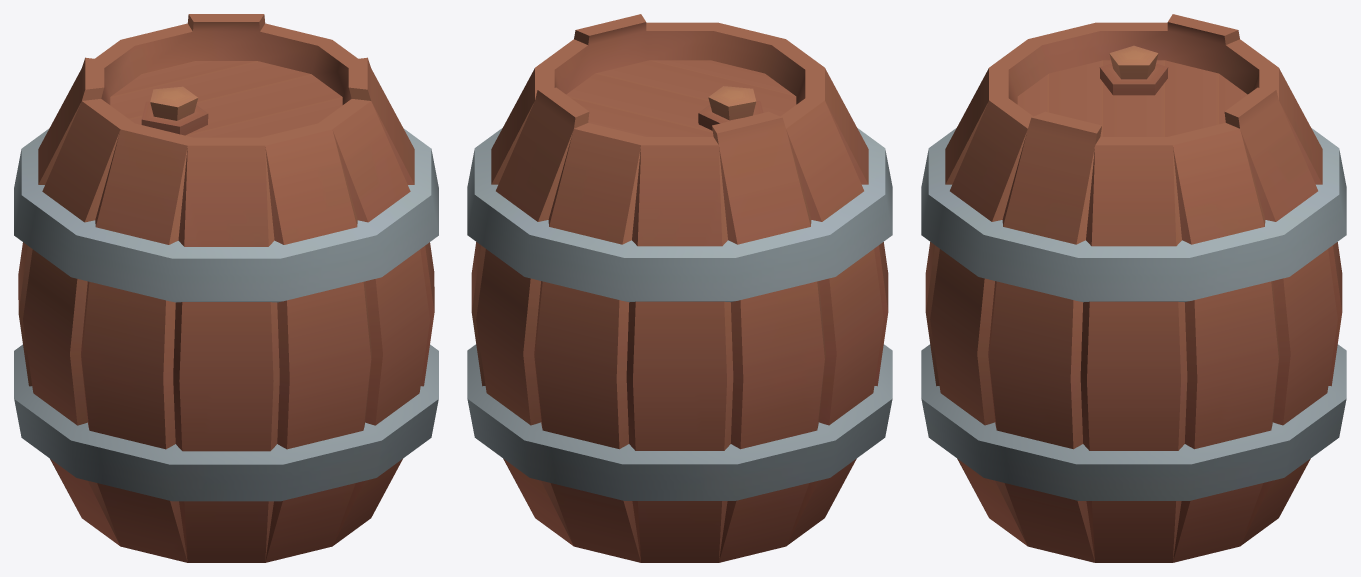
The model's file is barrel_large.gltf.glb.
The picture shows the model from 3 angles, left to right: view 1: azimuth 30°, elevation 25°; view 2: azimuth 150°, elevation 25°; view 3: azimuth 270°, elevation 25°; orthographic projection.
Parts seen in each view (by area): view 1: barrel_large; view 2: barrel_large; view 3: barrel_large.
Part boxes in pixels (x1,y1,x2,y2): barrel_large: (14, 14, 438, 562); barrel_large: (467, 14, 892, 562); barrel_large: (921, 14, 1346, 562).
Bounding box in the file's own units: 1.8 × 2 × 1.8.
Materials: 1 (1 with a texture image).
